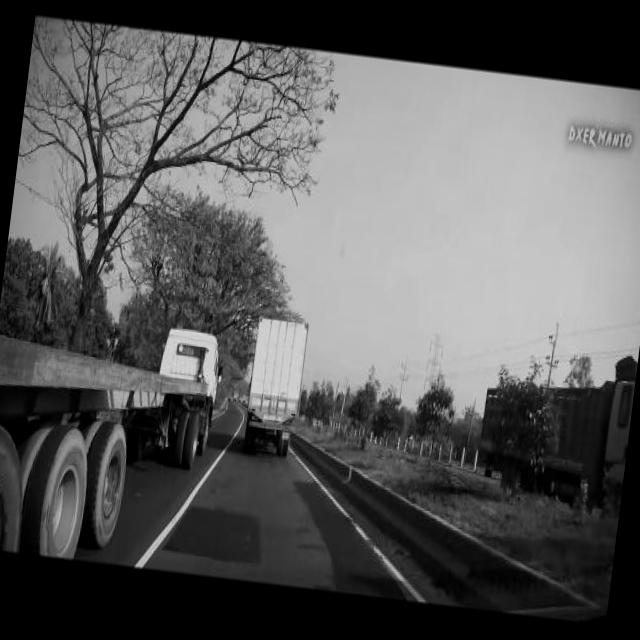truck: (0, 299, 229, 572), (470, 336, 638, 508), (236, 308, 312, 456)
